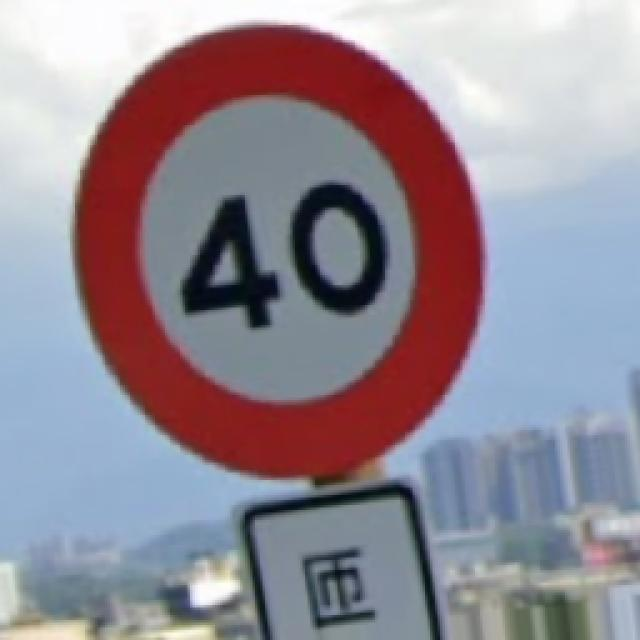Speed Limit -40-: (78, 25, 480, 475)
